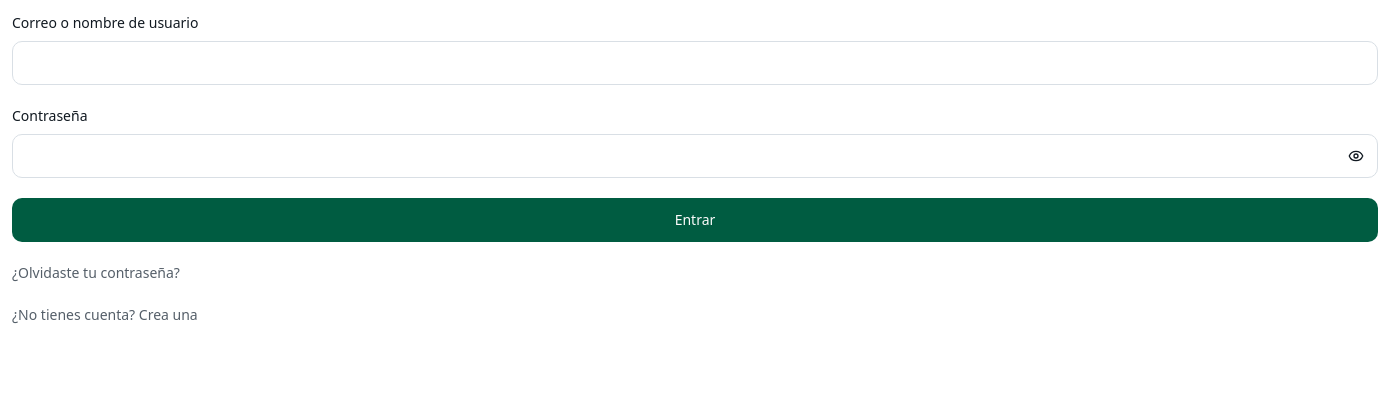
Test case: LoginForm › loginForm_spanishLocale_translatesTheRequiredMessage
The image size is (1390, 399).
Click the button "Entrar". click: click(695, 220)
box: [12,198,1378,242]
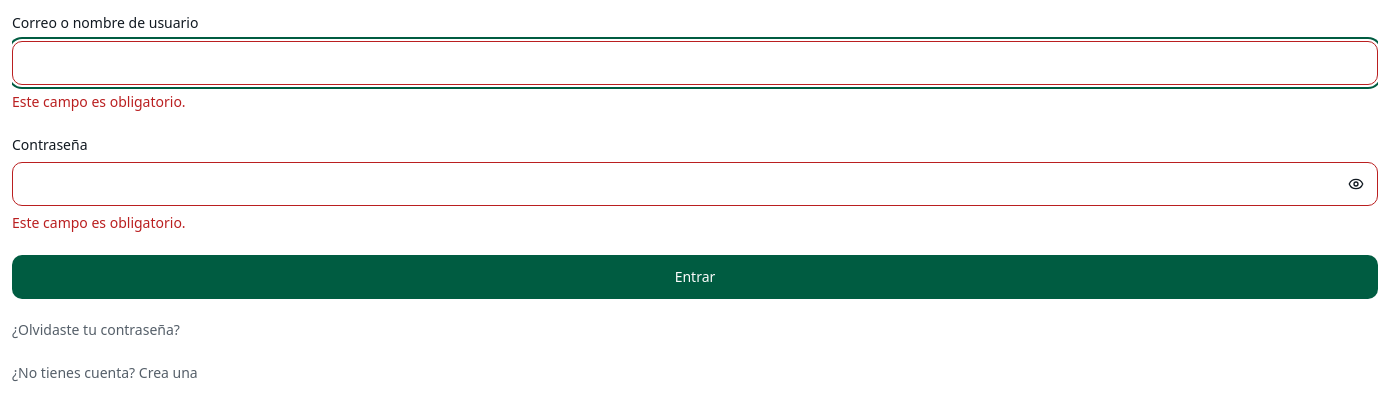
Expected: the text "Este campo es obligatorio." is shown 2 times, [12,92,186,111]; [12,213,186,232]
